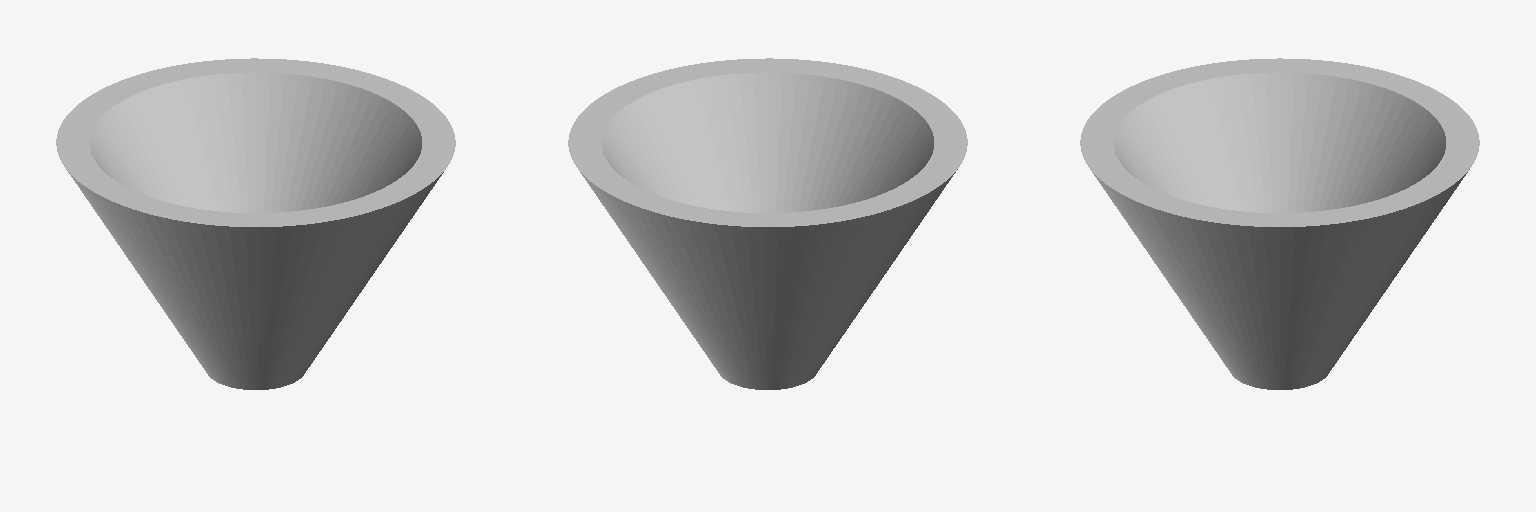
The model's file is TestBlade3-3.obj.
3 views of the same model, side by side, from view 1: azimuth 30°, elevation 25°; view 2: azimuth 150°, elevation 25°; view 3: azimuth 270°, elevation 25° (orthographic).
Size of the model in its own units: 0.024 by 0.015 by 0.024.